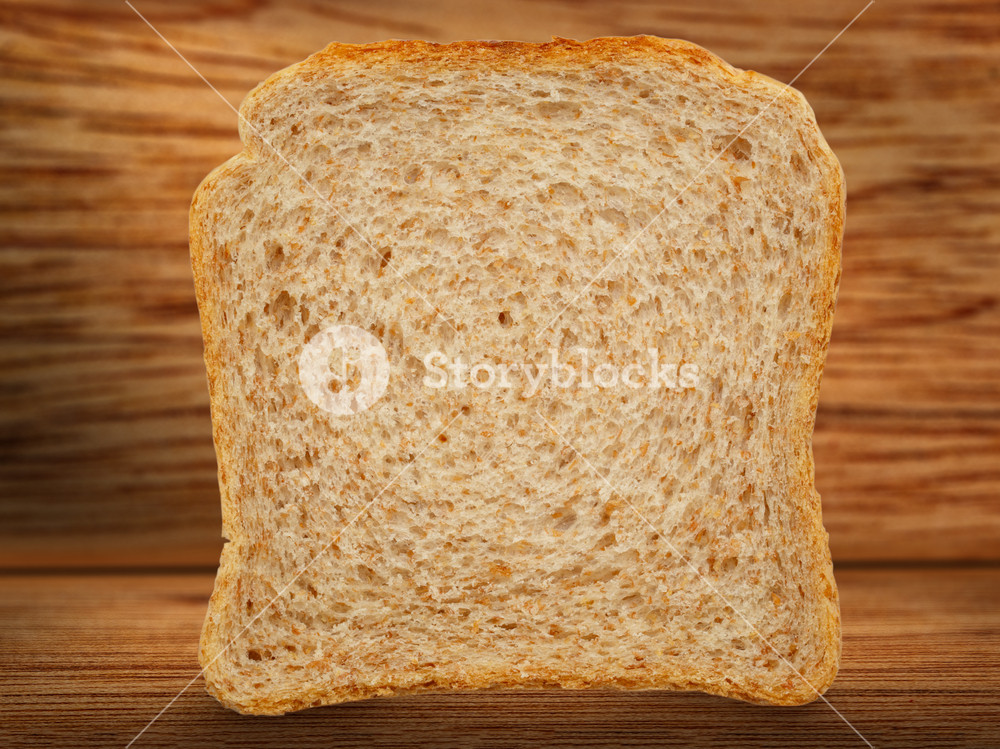slice of bread: (212, 75, 840, 702)
